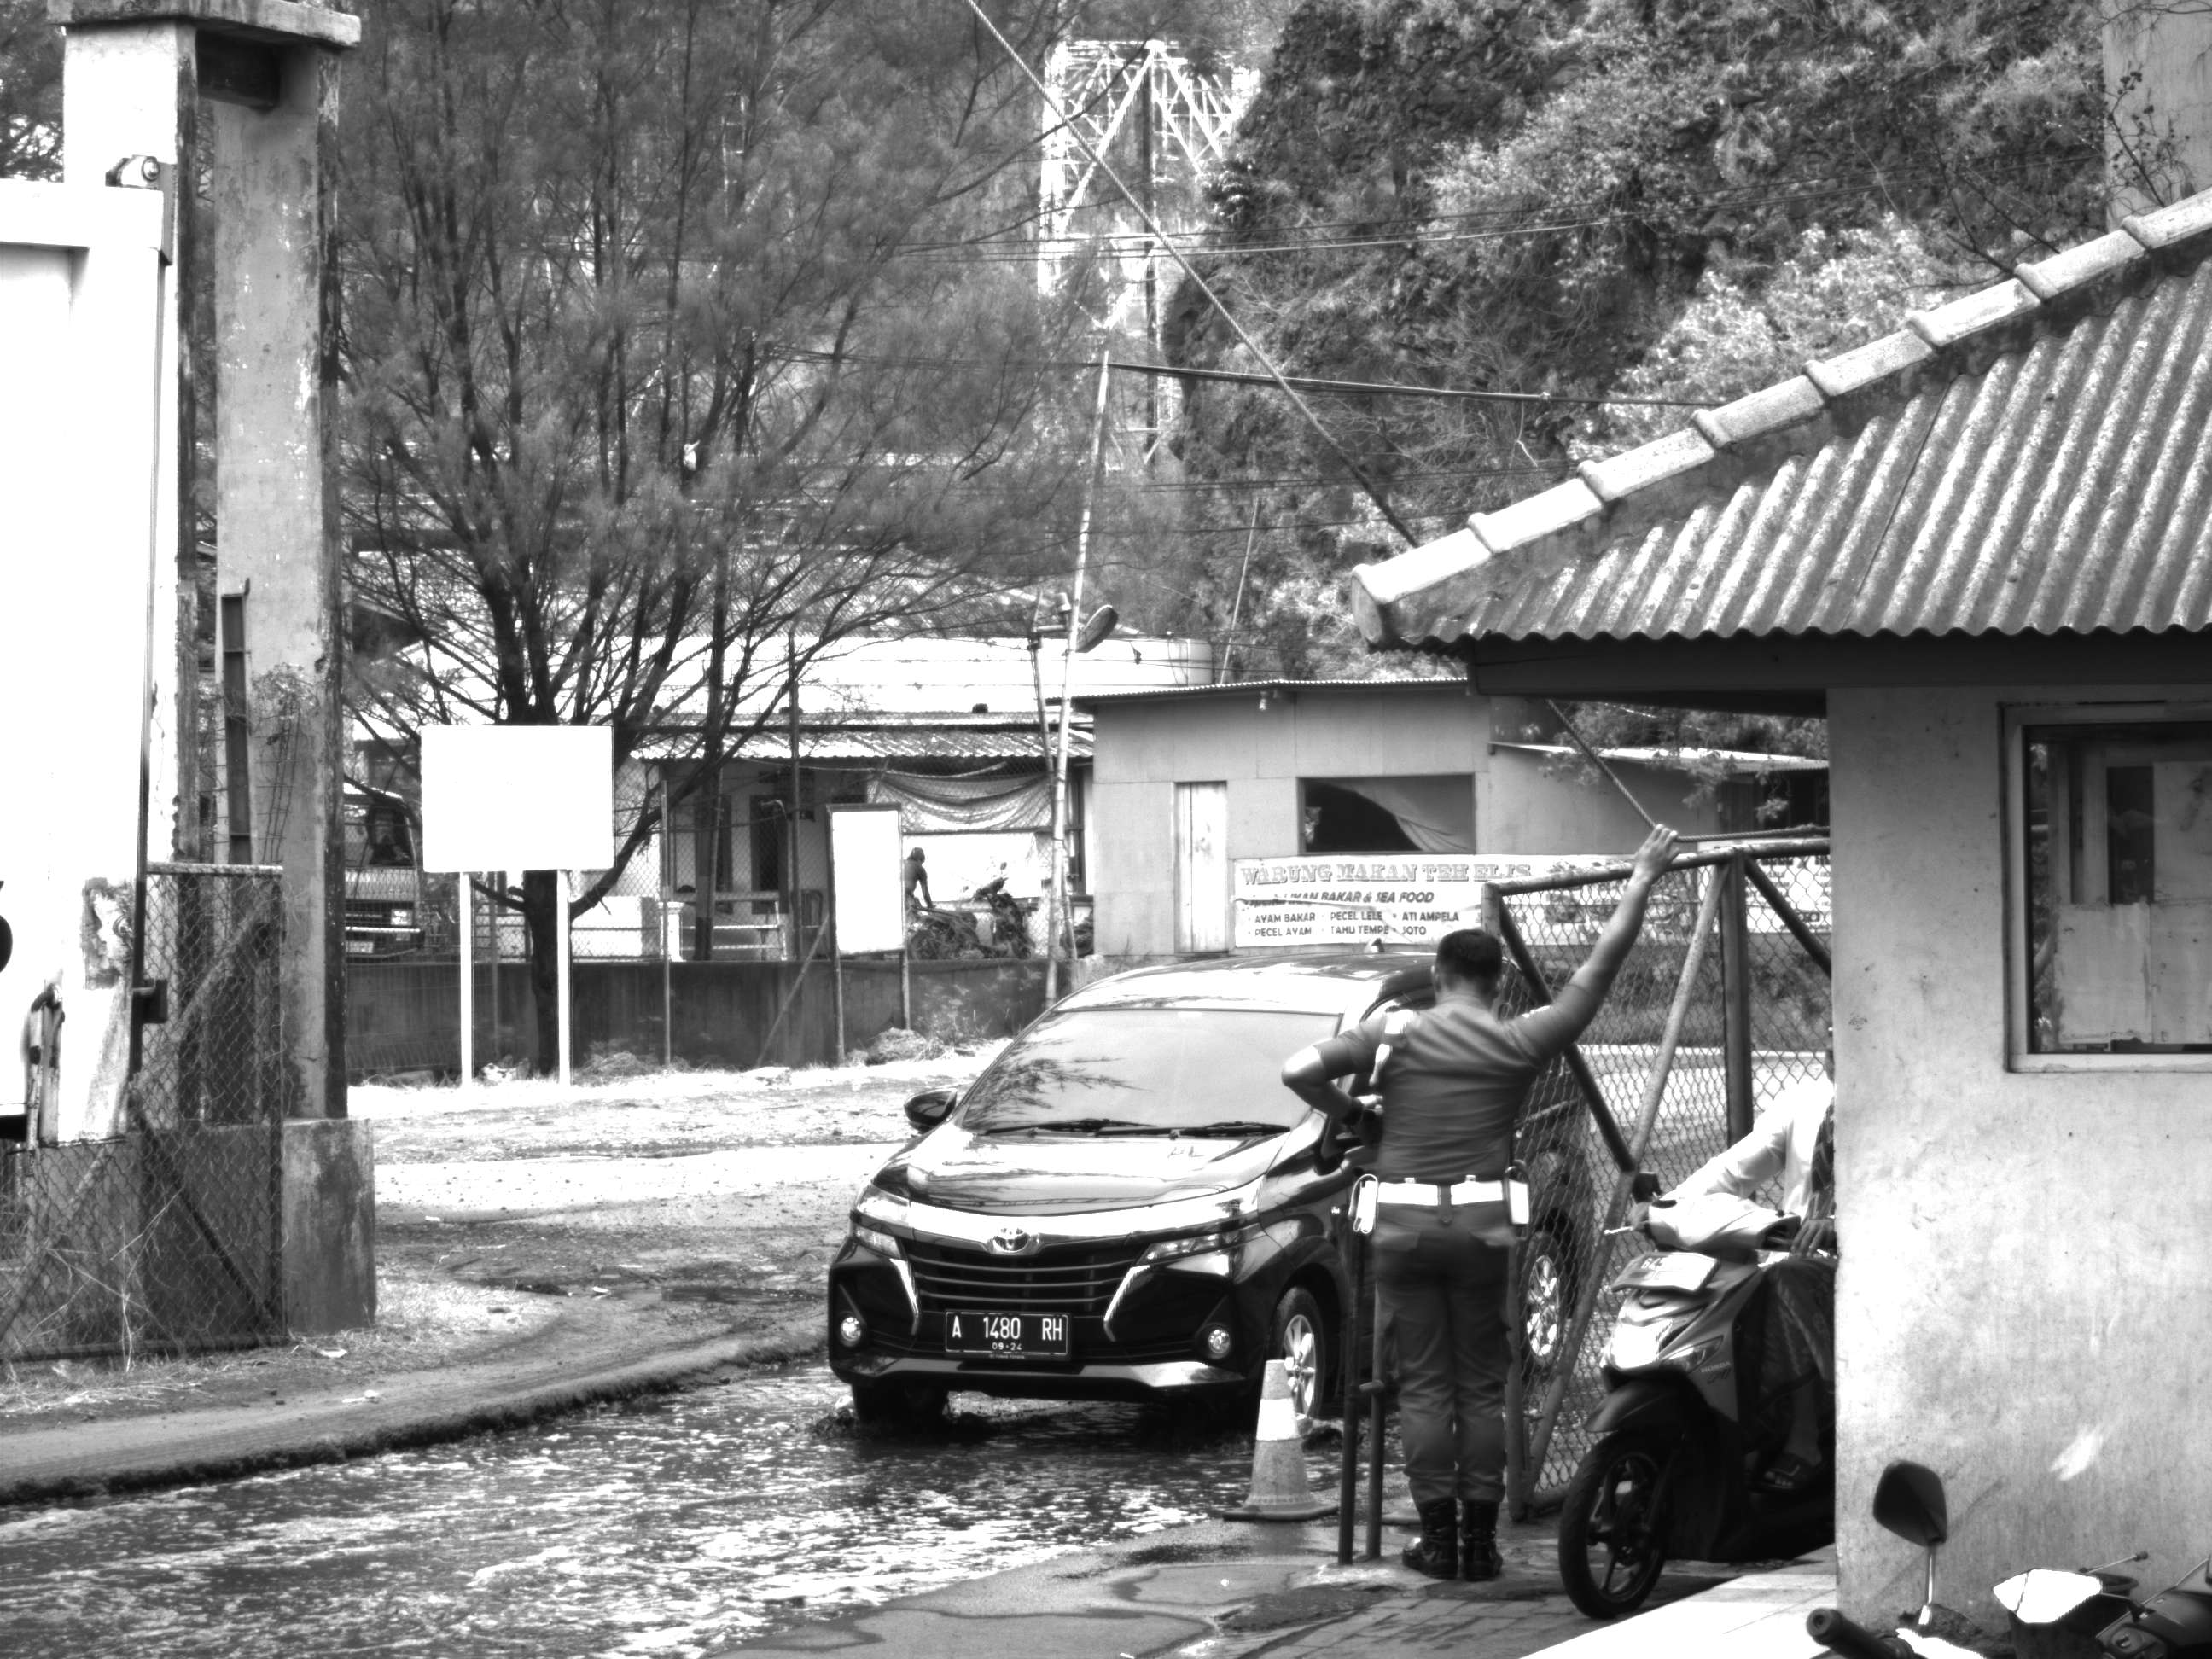day_small_front: (824, 975, 1388, 1435)
plate: (947, 1313, 1073, 1354)
